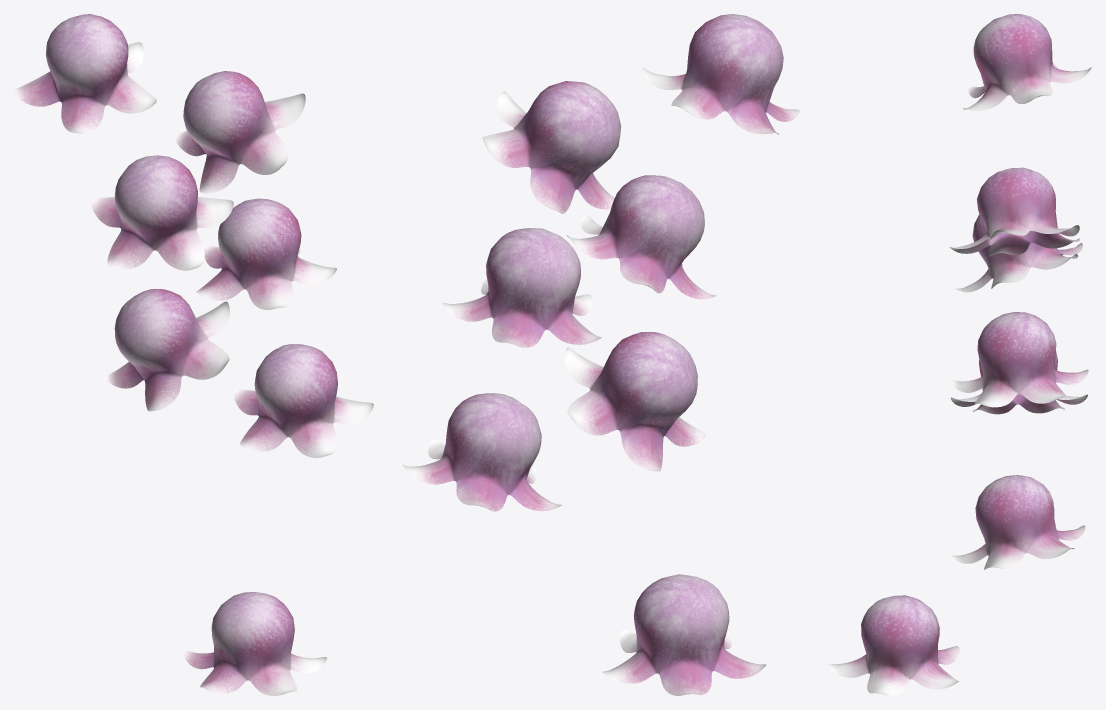
Rendered from lily-of-the-valley.glb.
The picture shows the model from 3 angles, left to right: view 1: azimuth 30°, elevation 25°; view 2: azimuth 150°, elevation 25°; view 3: azimuth 270°, elevation 25°; orthographic projection. The views are drawn at different scales.
Visible parts, largest first — view 1: Icosphere.002_2, Icosphere.003_3, Icosphere.004_4, Icosphere.006_6, Icosphere.005_5, Icosphere.001_1, Icosphere_0; view 2: Icosphere.005_5, Icosphere.003_3, Icosphere_0, Icosphere.001_1, Icosphere.006_6, Icosphere.004_4, Icosphere.002_2; view 3: Icosphere_0, Icosphere.001_1, Icosphere.006_6, Icosphere.004_4, Icosphere.003_3, Icosphere.002_2, Icosphere.005_5.
Boxes of the visible parts, left/top/right/bottom form: Icosphere.002_2: left=91, top=155, right=233, bottom=270; Icosphere.003_3: left=175, top=71, right=305, bottom=193; Icosphere.004_4: left=14, top=14, right=156, bottom=133; Icosphere.006_6: left=233, top=344, right=373, bottom=457; Icosphere.005_5: left=106, top=288, right=229, bottom=411; Icosphere.001_1: left=196, top=198, right=336, bottom=309; Icosphere_0: left=183, top=592, right=326, bottom=695; Icosphere.005_5: left=564, top=332, right=705, bottom=471; Icosphere.003_3: left=482, top=81, right=621, bottom=213; Icosphere_0: left=602, top=574, right=766, bottom=695; Icosphere.001_1: left=442, top=228, right=601, bottom=347; Icosphere.006_6: left=403, top=393, right=561, bottom=511; Icosphere.004_4: left=642, top=14, right=799, bottom=134; Icosphere.002_2: left=567, top=175, right=716, bottom=299; Icosphere_0: left=828, top=595, right=959, bottom=695; Icosphere.001_1: left=951, top=312, right=1088, bottom=407; Icosphere.006_6: left=952, top=475, right=1085, bottom=569; Icosphere.004_4: left=963, top=14, right=1091, bottom=110; Icosphere.003_3: left=949, top=167, right=1079, bottom=256; Icosphere.002_2: left=955, top=214, right=1082, bottom=292; Icosphere.005_5: left=950, top=351, right=1087, bottom=414.
Bounding box in the file's own units: 4.69 × 8.6 × 3.41.
1 material, 1 textured.
